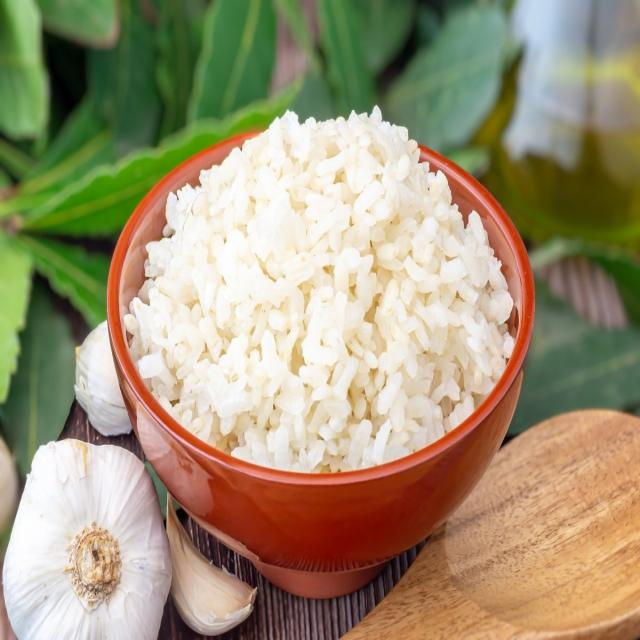arroz: (104, 85, 530, 476)
